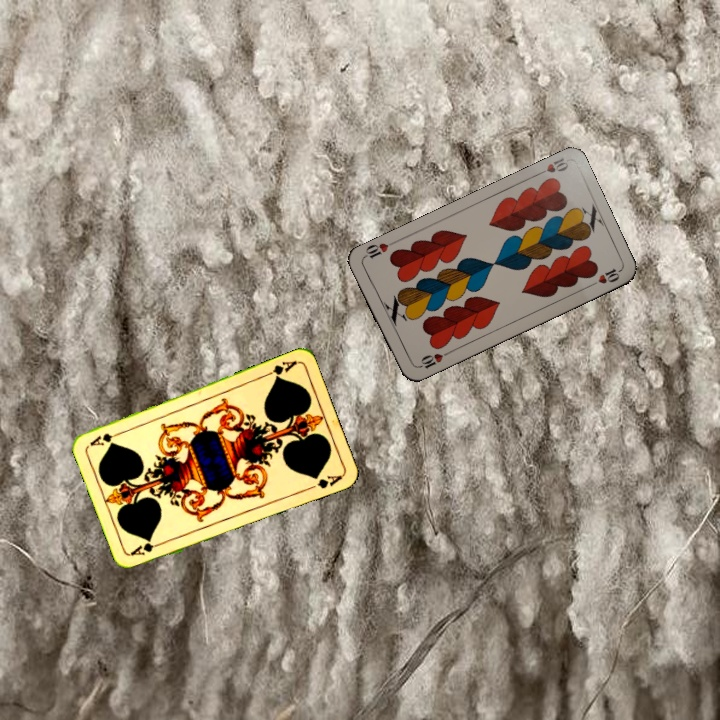GA: (261, 356, 300, 381), (127, 537, 167, 558)
H10: (531, 154, 571, 179), (413, 348, 452, 372)
